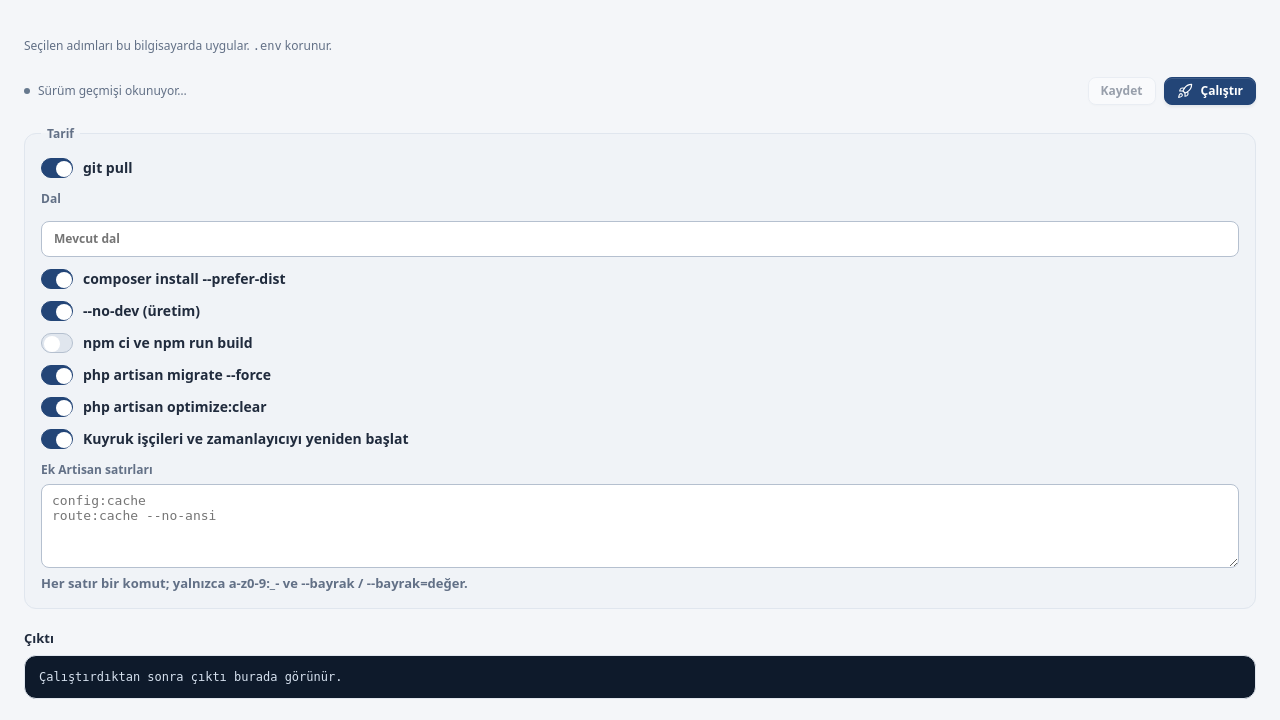
Test case: release history IPC integration › requests fresh history after deploy instead of sharing the pending pre-deployment read
This screenshot has width=1280, height=720.
Click the button "Çalıştır" at (1210, 91), box [1164,77,1256,105]
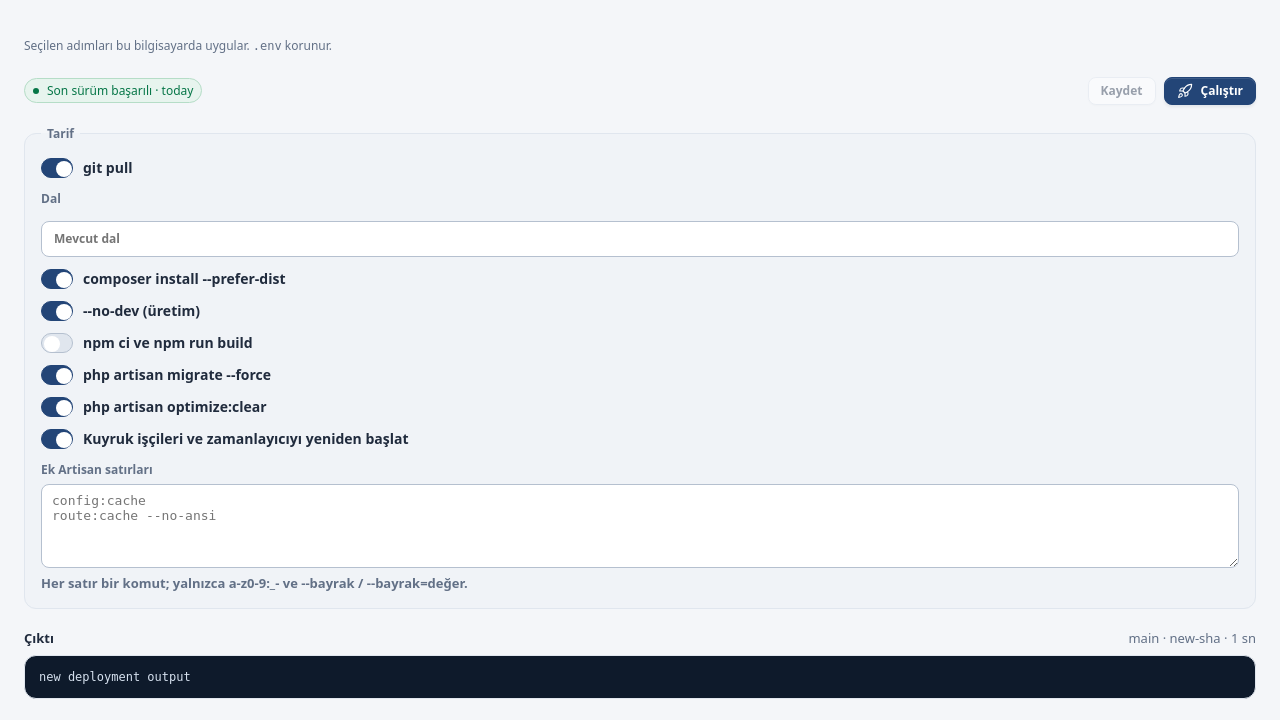
Result: the text "new deployment output" is shown at [24,655,1256,699]
Result: the text "Son sürüm başarılı · today" is shown at [24,78,202,103]
